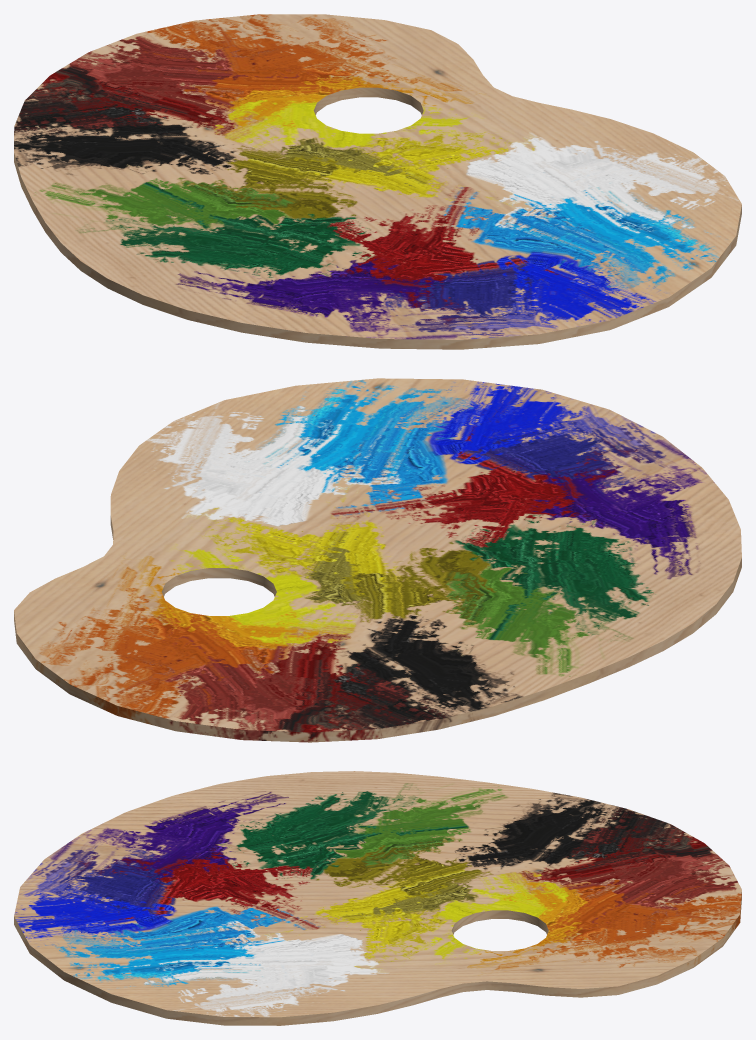
The model's file is palette_02.fbx.
3 renders of one model, top to bottom at view 1: azimuth 30°, elevation 25°; view 2: azimuth 150°, elevation 25°; view 3: azimuth 270°, elevation 25°, orthographic. The views are drawn at different scales.
Visible parts, largest first — view 1: palette_02; view 2: palette_02; view 3: palette_02.
Part boxes in pixels (x1,y1,x2,y2): palette_02: (14, 14, 741, 349); palette_02: (14, 378, 741, 742); palette_02: (14, 771, 741, 1025).
Bounding box in the file's own units: 60.07 × 0.9761 × 75.09.
